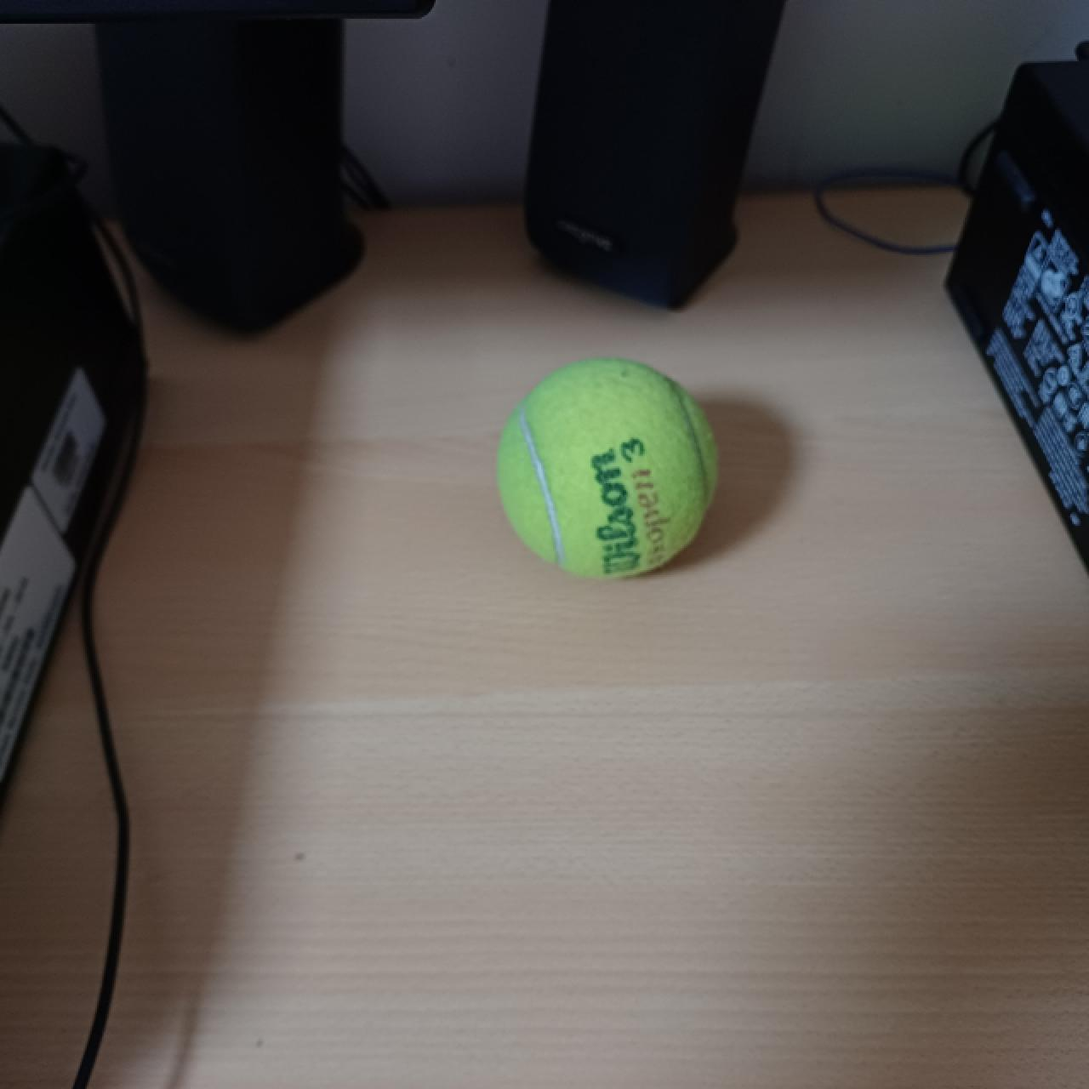tennis-ball: (495, 354, 723, 585)
